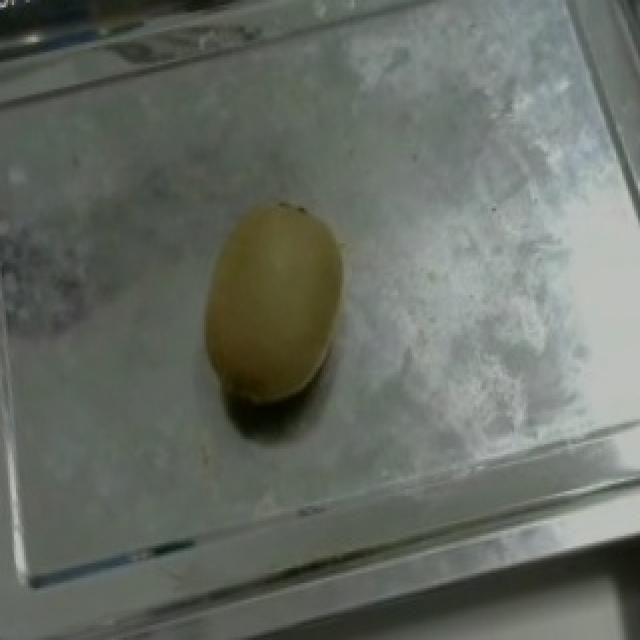Fruit: (178, 176, 378, 434)
